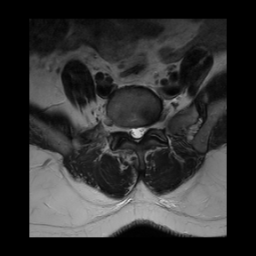CCS_stenosis: (134, 119, 140, 146)
LFS_stenosis: (146, 117, 153, 136)
LLS_normal: (140, 119, 146, 141)
RFS_stenosis: (120, 117, 127, 139)
RLS_normal: (127, 119, 134, 141)
